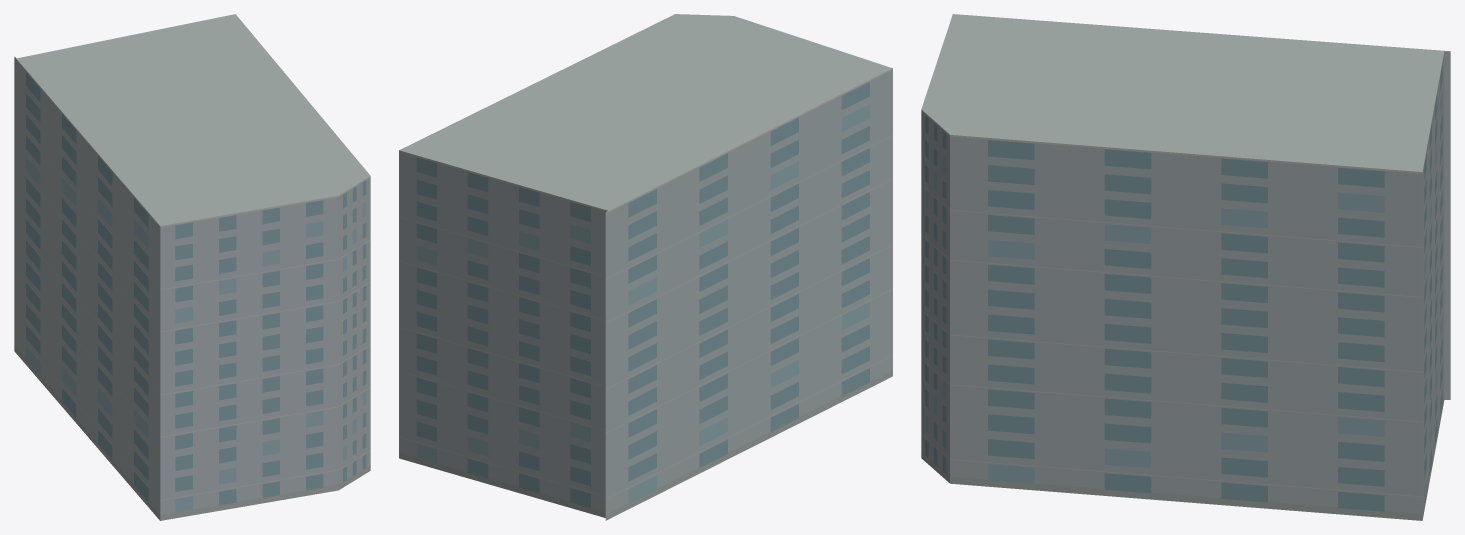
File: survey-upis-32912012.glb
3 views of the same model, side by side, from view 1: azimuth 30°, elevation 25°; view 2: azimuth 150°, elevation 25°; view 3: azimuth 270°, elevation 25° (orthographic). The views are drawn at different scales.
Visible parts, largest first — view 1: survey-upis-32912012.tmp; view 2: survey-upis-32912012.tmp; view 3: survey-upis-32912012.tmp.
Boxes of the visible parts, x1,y1,x2,y2 form: survey-upis-32912012.tmp: (14, 14, 370, 520); survey-upis-32912012.tmp: (399, 14, 892, 520); survey-upis-32912012.tmp: (921, 14, 1450, 520).
Bounding box in the file's own units: 47.07 × 48.4 × 66.58.
